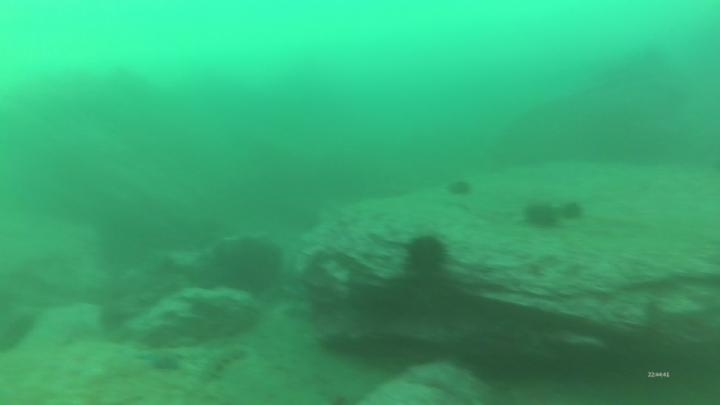echinus: (403, 232, 452, 283), (523, 202, 563, 230), (556, 198, 585, 225), (447, 178, 473, 197)
holothurian: (197, 342, 251, 389)
starfish: (132, 348, 191, 373)
